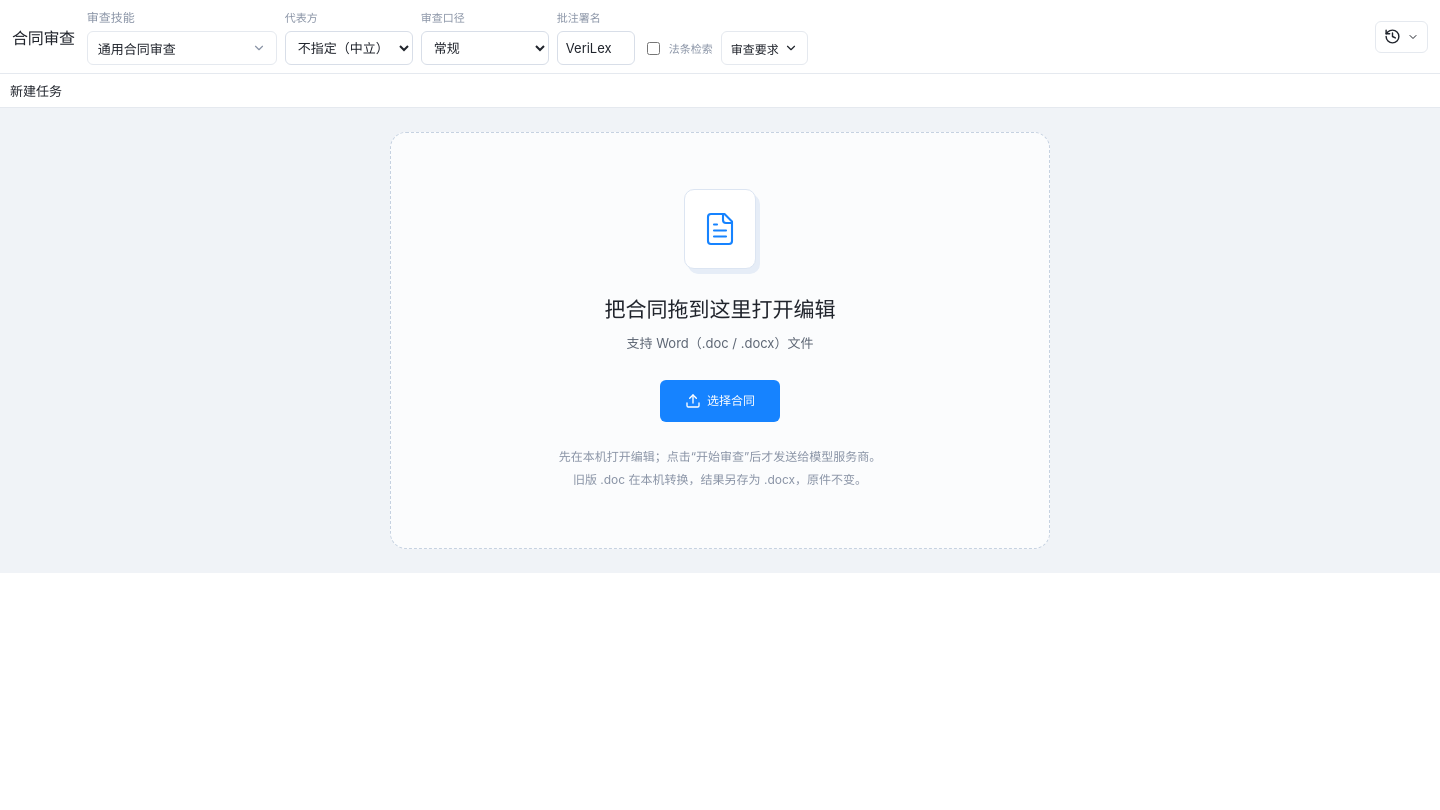
it: ContractReviewView › 技能菜单默认选中内置通用合同审查
Click the dropdown named "审查技能" at (182, 48), box [87,31,277,65]
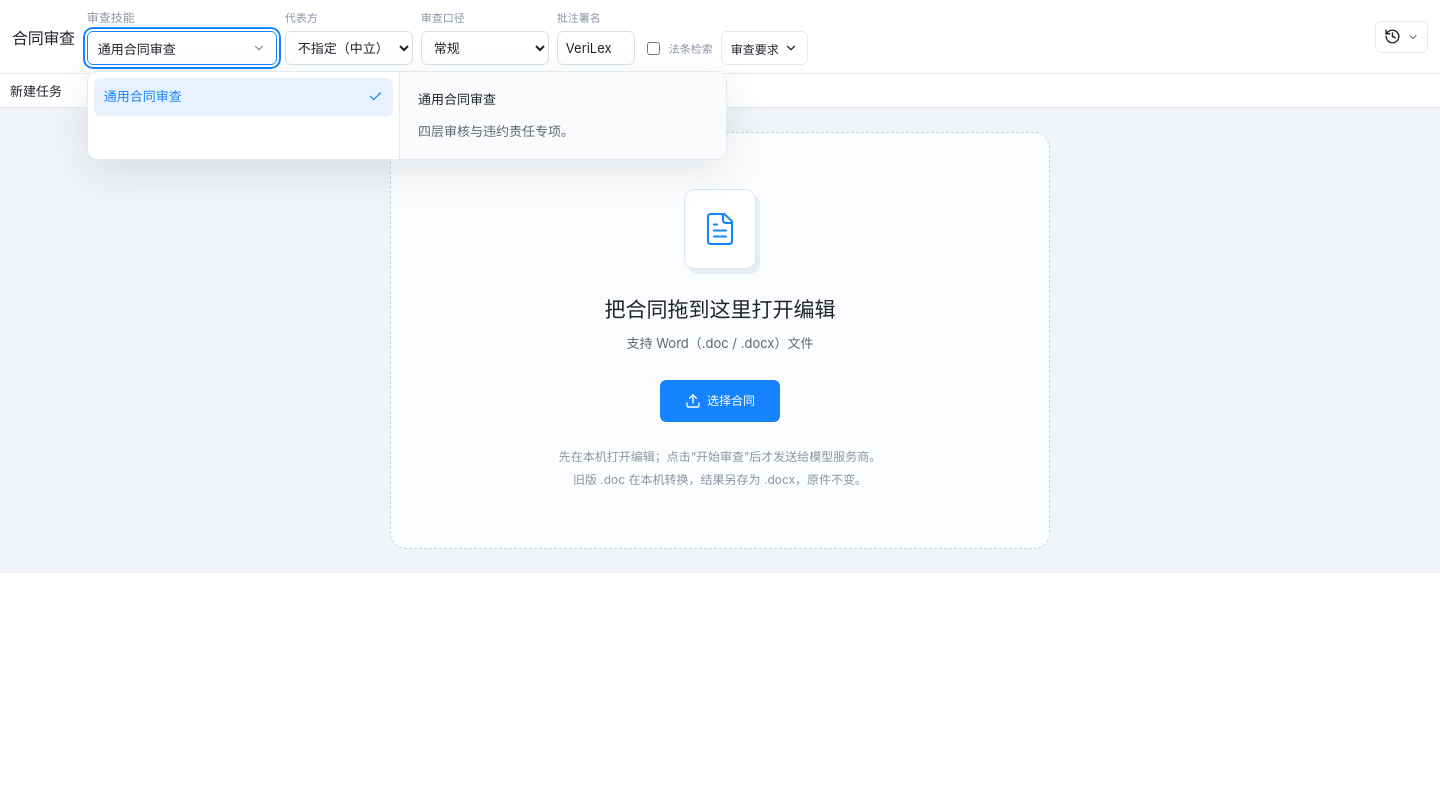
Expected: the text "四层审核与违约责任专项。" is shown, [418,122,574,138]
